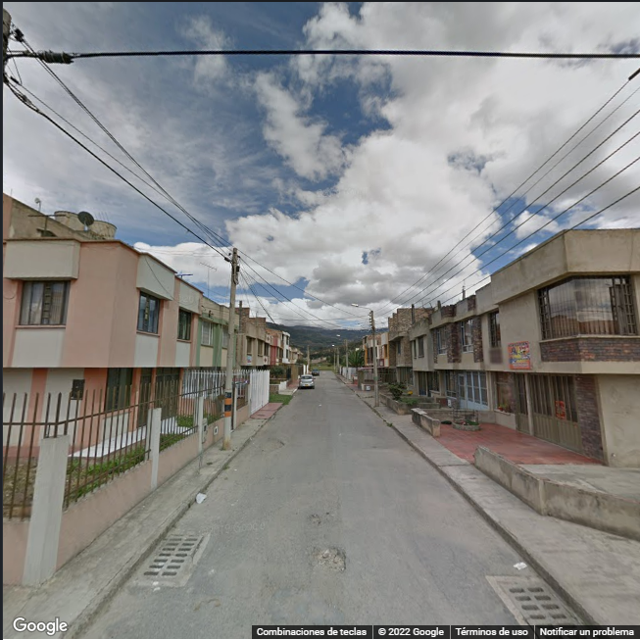D00: (444, 540, 478, 579)
D40: (314, 538, 350, 577)
